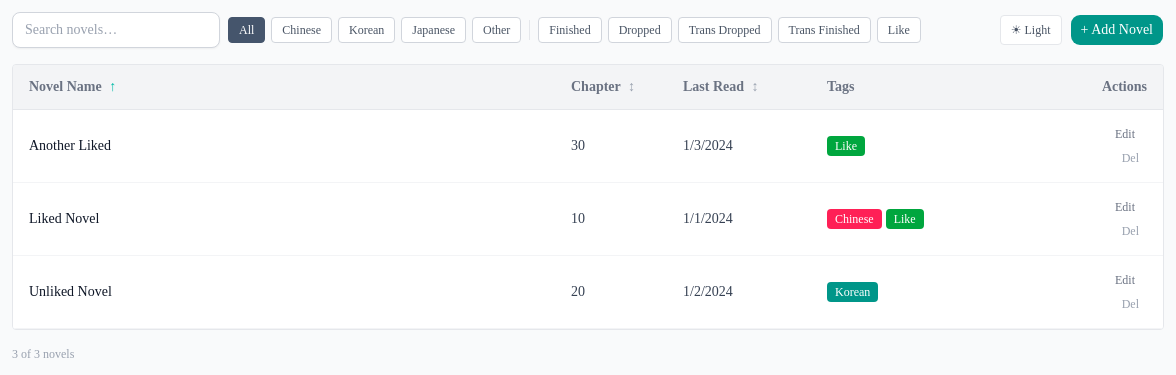
Test: Like filter › restores all novels when the Like pill is clicked again
The image size is (1176, 375).
Click the button "Like" at coordinates (899, 30), box [877,17,921,43]
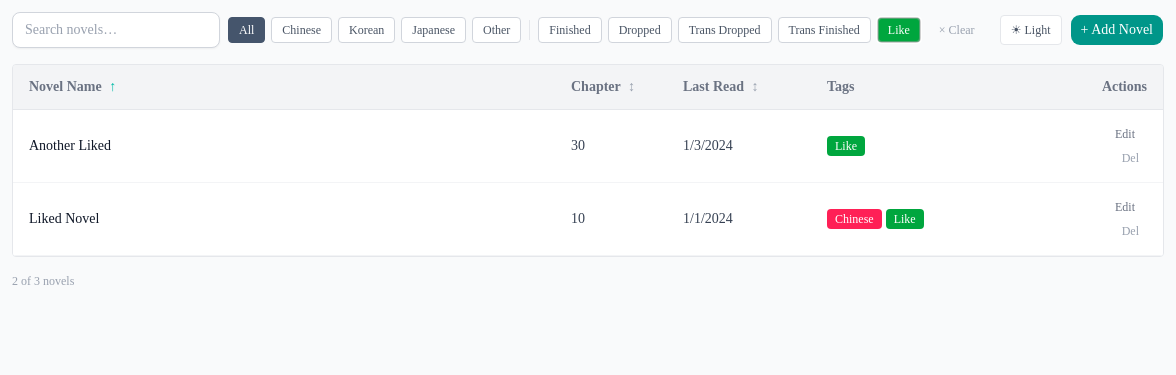
Click the button "Like" at coordinates (899, 30), box [877,17,921,43]
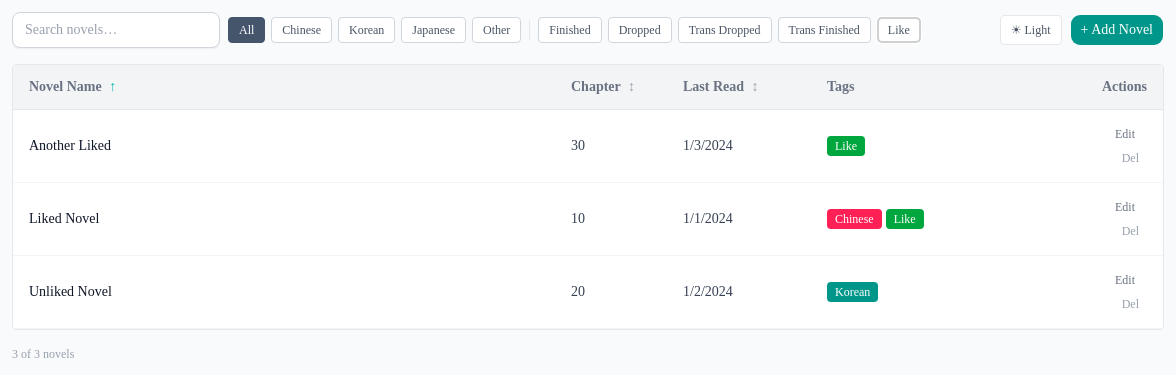
Check: the text "Unliked Novel" is shown, box [13,256,555,328]
